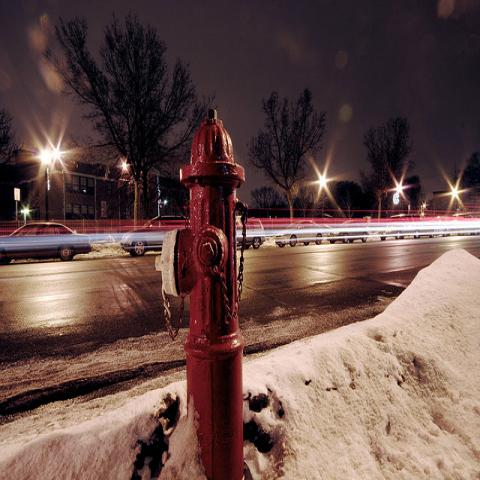car: (0, 221, 93, 265), (120, 214, 190, 256), (274, 220, 325, 248), (327, 220, 369, 244), (378, 215, 413, 243), (236, 220, 265, 250), (442, 214, 473, 236), (414, 217, 440, 239)
